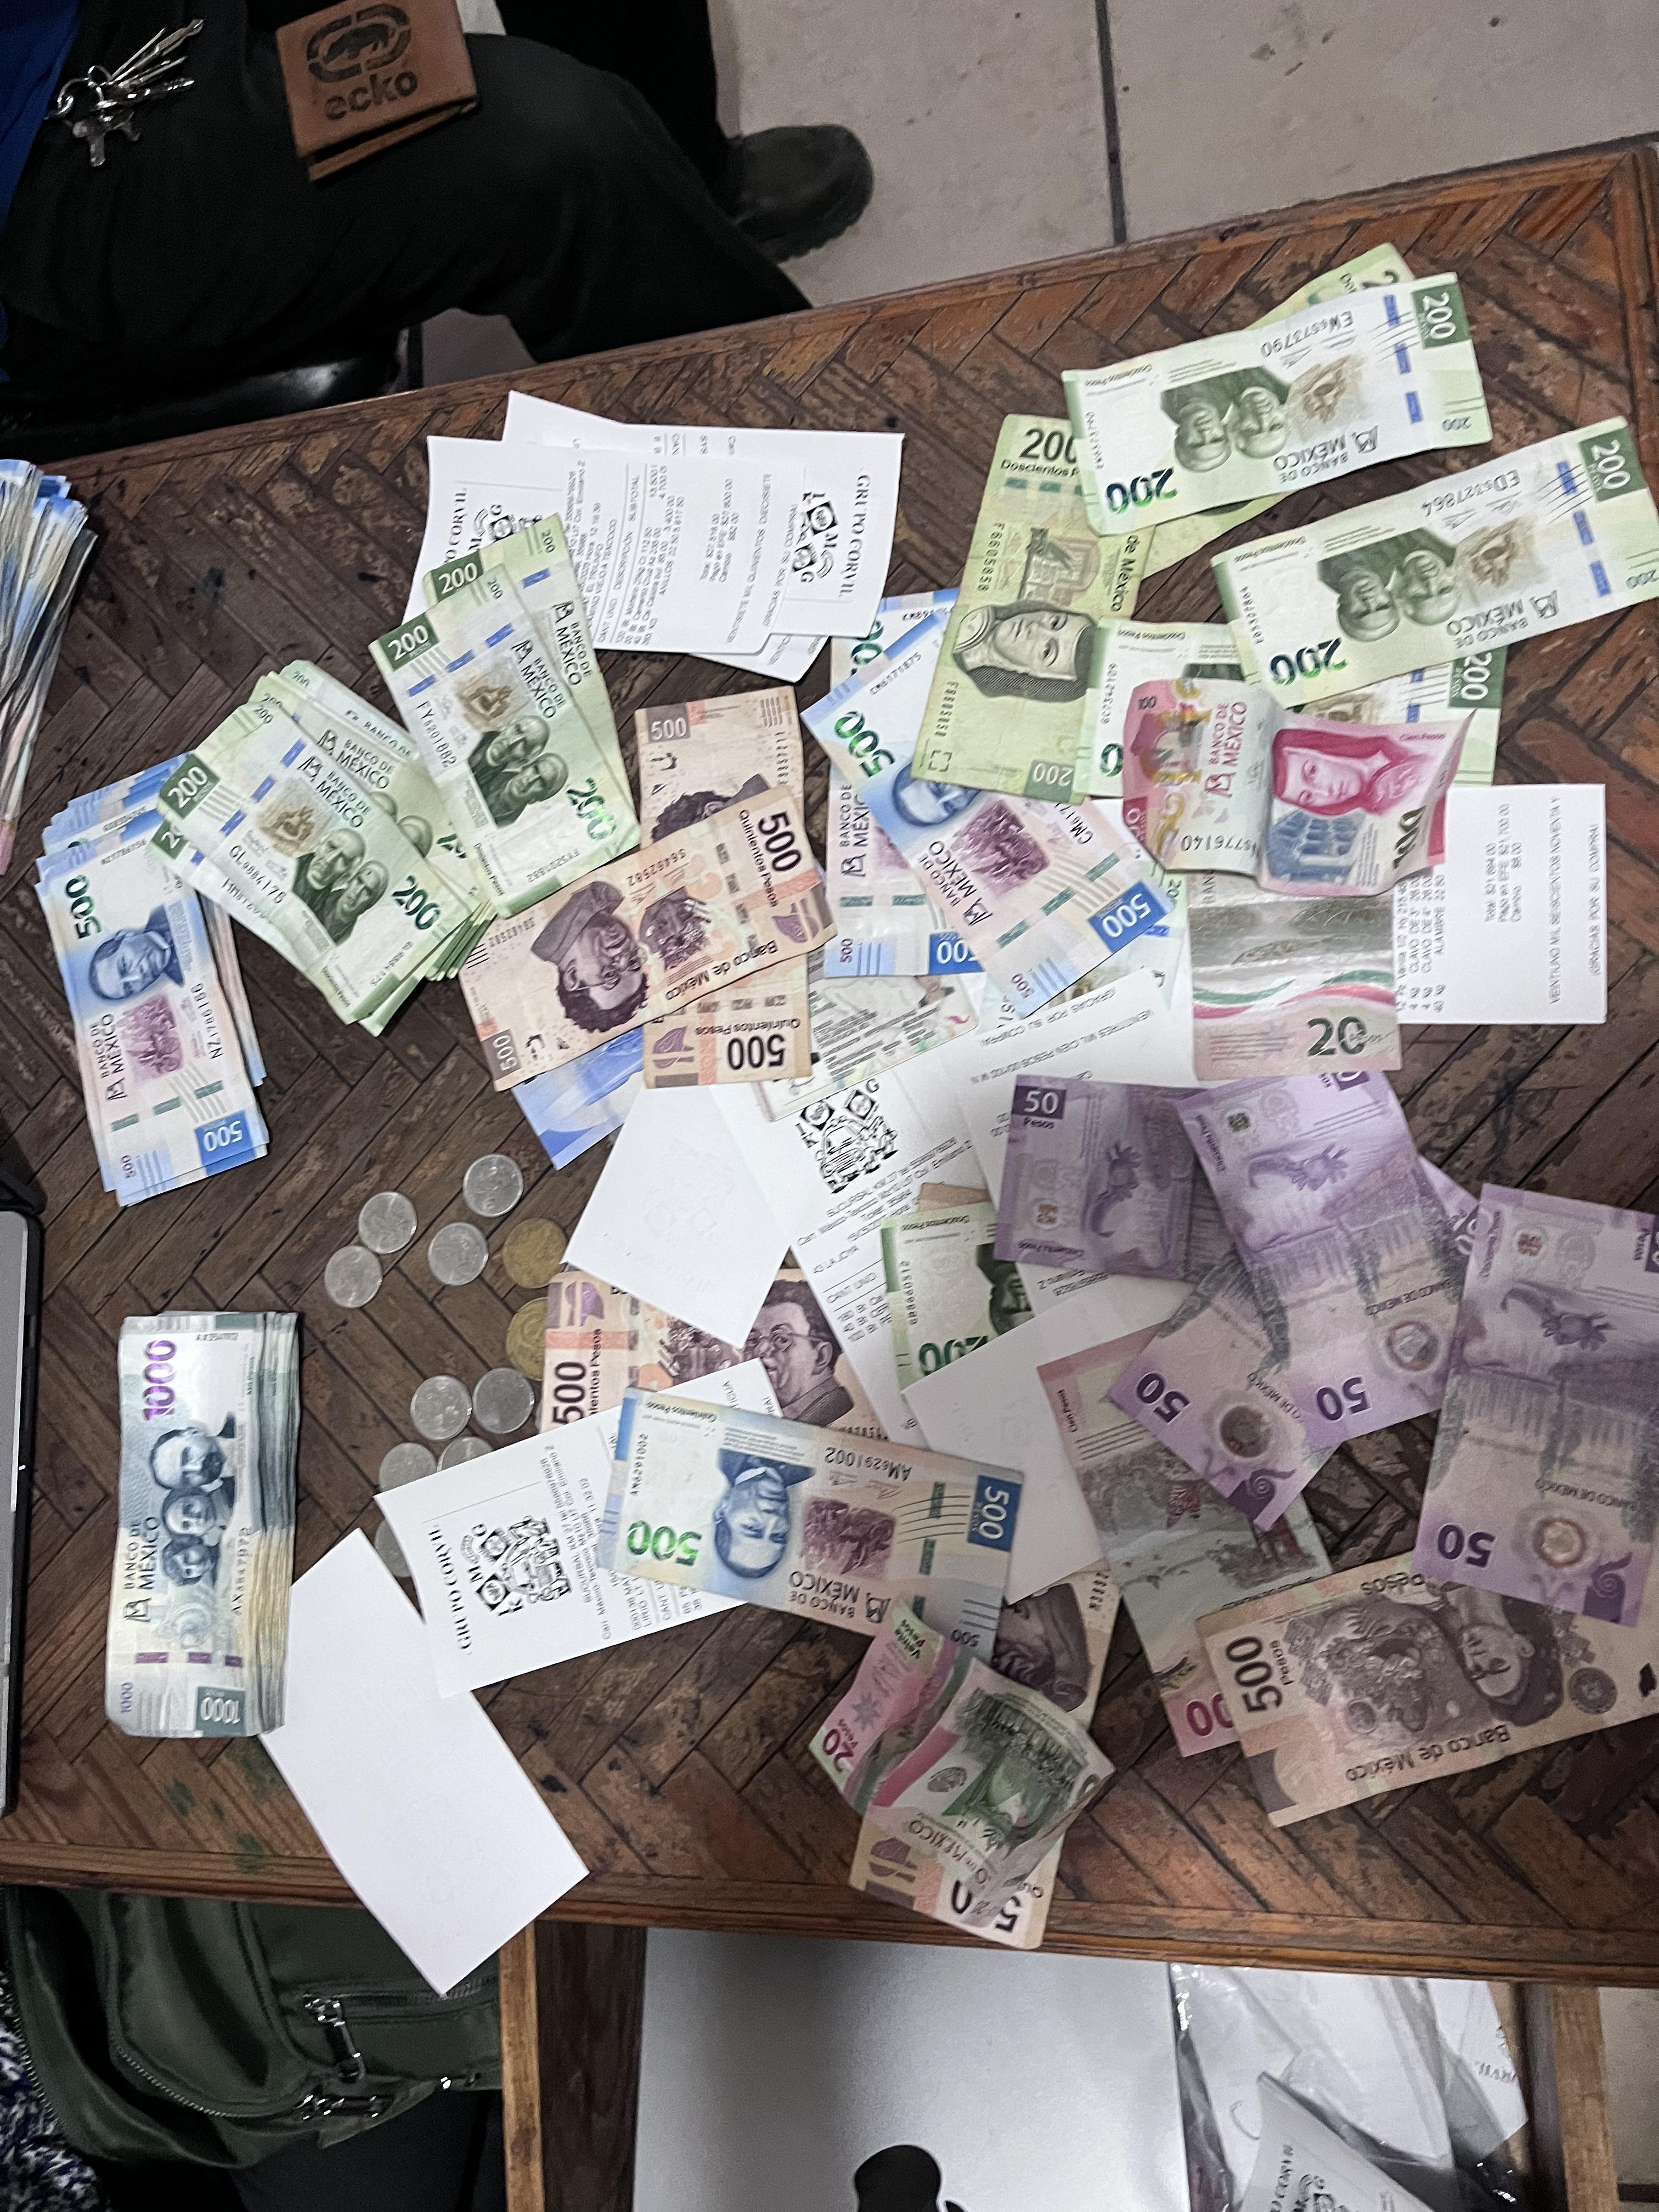100: (1037, 1315, 1378, 1764), (1086, 671, 1485, 894)
1000: (91, 1285, 300, 1787)
20: (800, 1597, 1141, 1926), (1145, 852, 1419, 1082)
200: (1023, 249, 1521, 519), (1180, 413, 1659, 693), (152, 700, 498, 1028), (382, 524, 666, 907), (917, 390, 1133, 833), (1080, 592, 1516, 801), (861, 1190, 1046, 1406)
50: (1091, 1150, 1518, 1524), (1176, 1040, 1504, 1439), (1413, 1167, 1659, 1646), (951, 1062, 1267, 1277)
500: (1204, 1519, 1659, 1839), (429, 801, 854, 1080), (16, 768, 272, 1228), (620, 683, 830, 1094), (519, 1249, 901, 1430)
500 nuevo: (795, 631, 1182, 1019), (558, 1386, 1056, 1672), (807, 583, 1019, 998)
